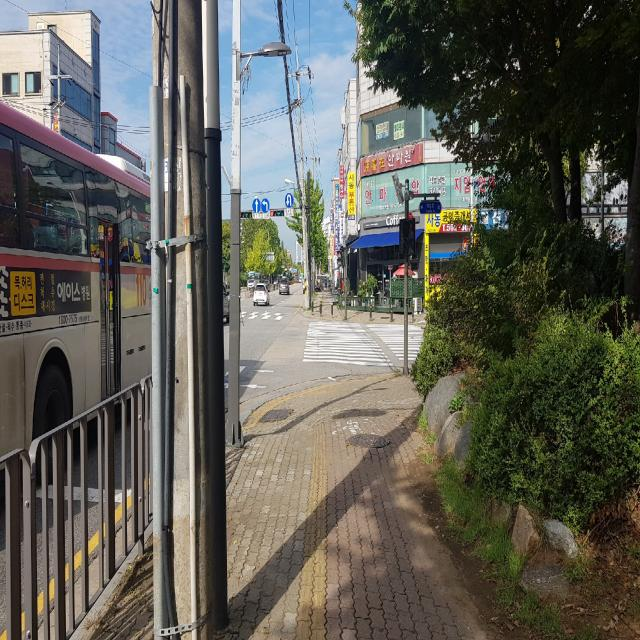횡단보도: (302, 321, 424, 366), (246, 310, 288, 321)
